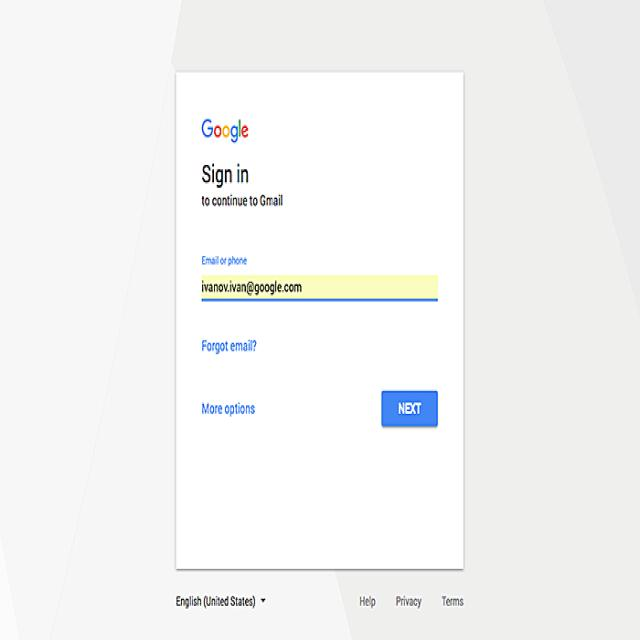Breadcrumb: (354, 592, 468, 614)
Button: (380, 388, 440, 431)
Container: (169, 64, 470, 576)
Input-field: (199, 270, 440, 316)
Text: (199, 160, 288, 214), (200, 389, 258, 428), (172, 592, 267, 614), (198, 117, 252, 145), (200, 336, 262, 358), (200, 250, 253, 268)
